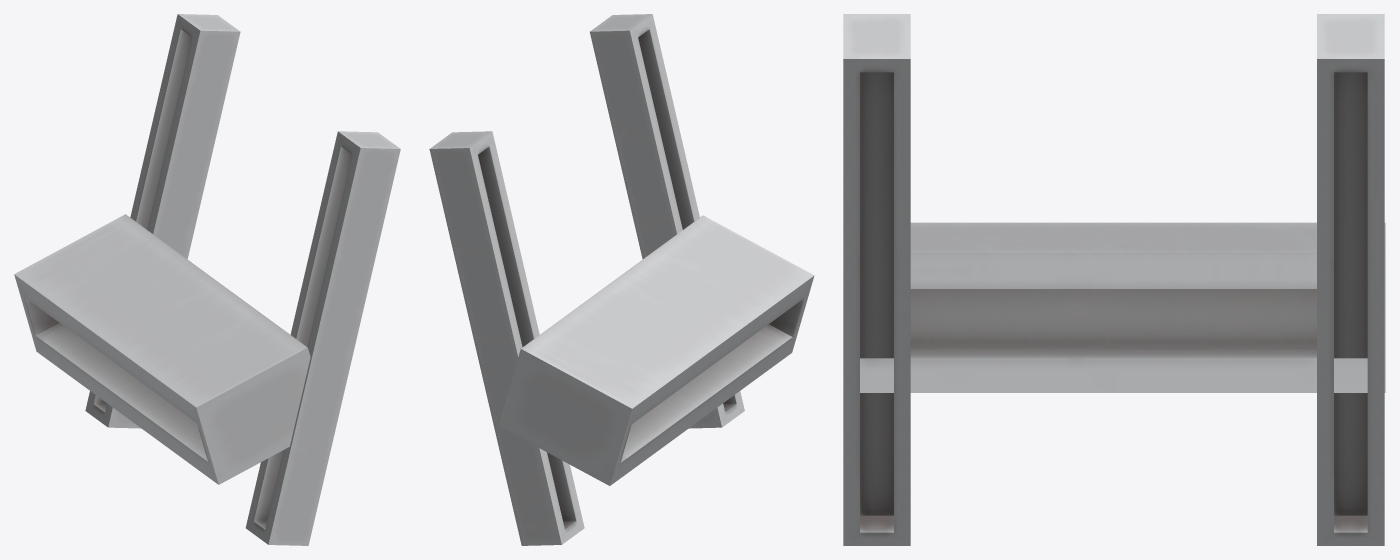
Rendered from Mat_SteelFrame.fbx.
3 views of the same model, side by side, from view 1: azimuth 30°, elevation 25°; view 2: azimuth 150°, elevation 25°; view 3: azimuth 270°, elevation 25° (orthographic). The views are drawn at different scales.
Parts seen in each view (by area): view 1: Mat_SteelFrame; view 2: Mat_SteelFrame; view 3: Mat_SteelFrame.
Boxes of the visible parts, x1,y1,x2,y2 form: Mat_SteelFrame: (14,14,400,545); Mat_SteelFrame: (429,14,814,545); Mat_SteelFrame: (843,14,1385,545).
Size of the model in its own units: 0.585 by 1.06 by 0.9149.
Materials: 1 (1 with a texture image).
